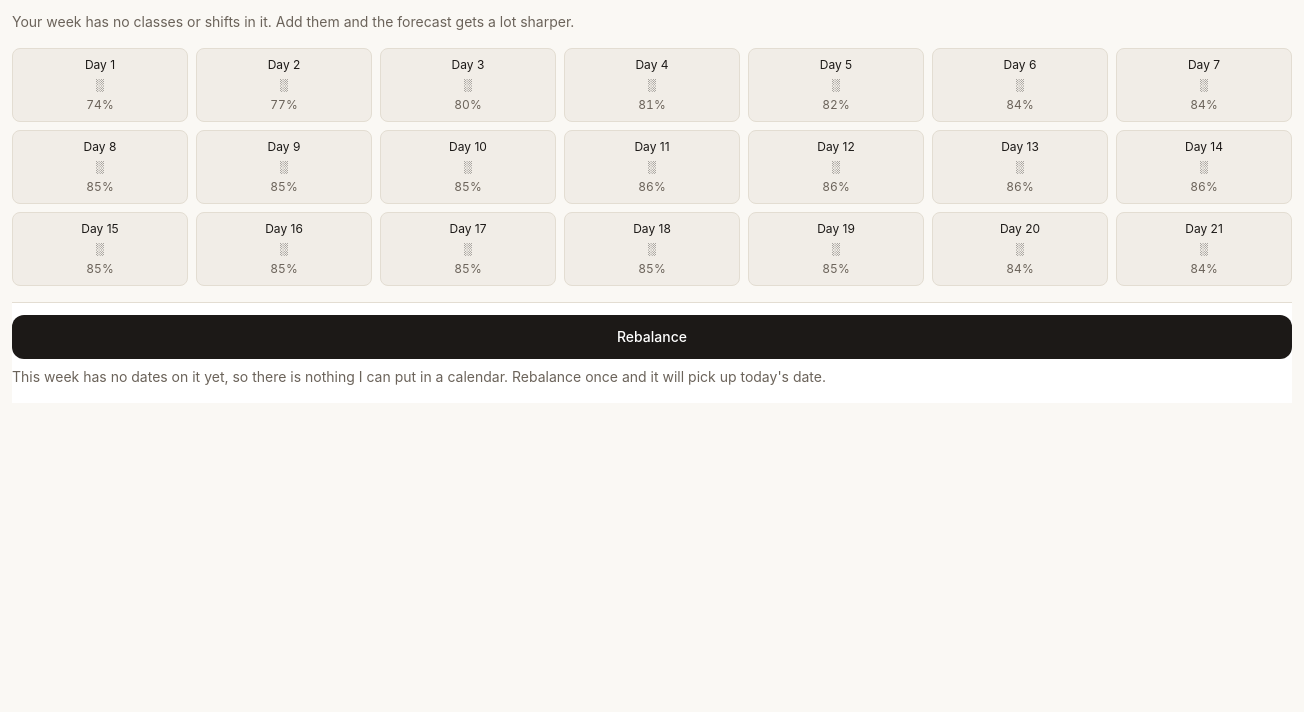
Scenario: WeekScreen › opens a day when it is tapped
The width and height of the screenshot is (1304, 712).
Click the button with test id "day-3". click: (652, 85)
box: [564, 48, 740, 122]
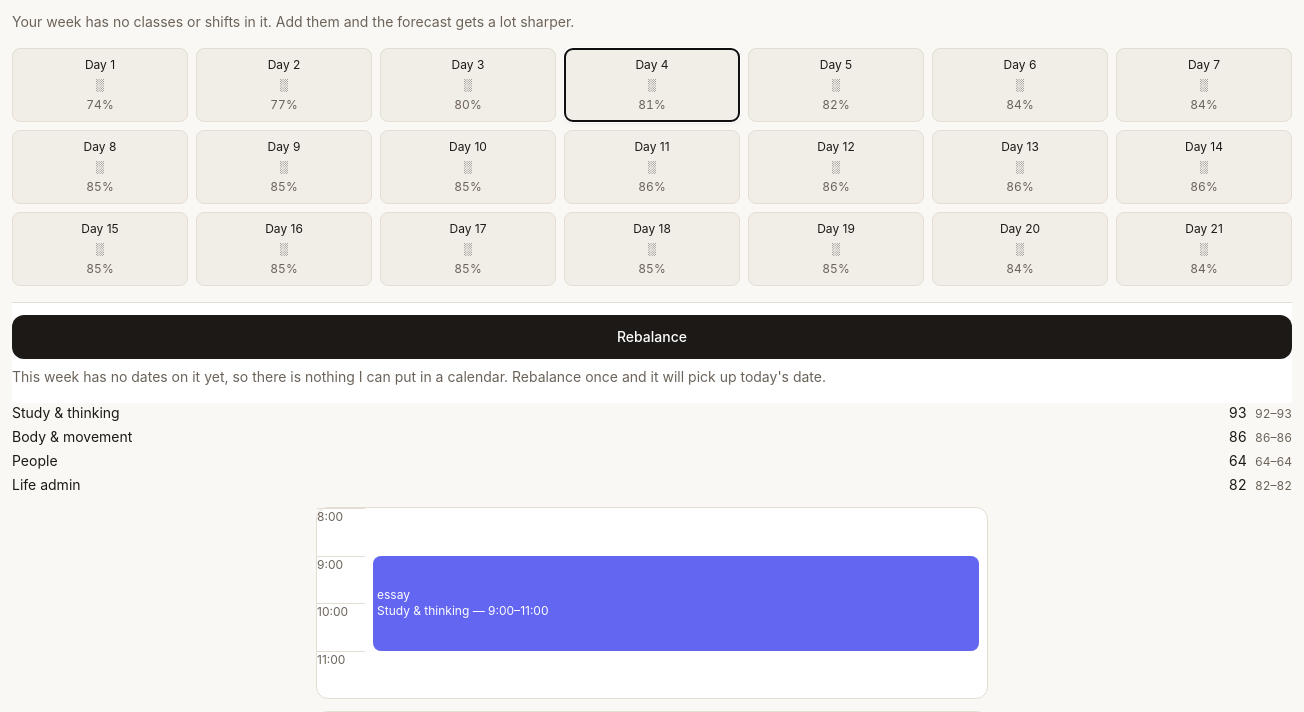
Expected: the text "essay" is shown, [377, 587, 410, 602]
